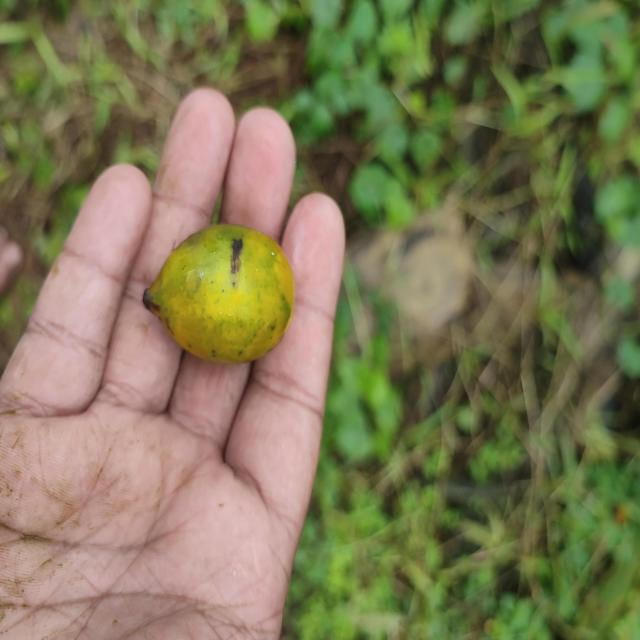good: (141, 222, 295, 367)
